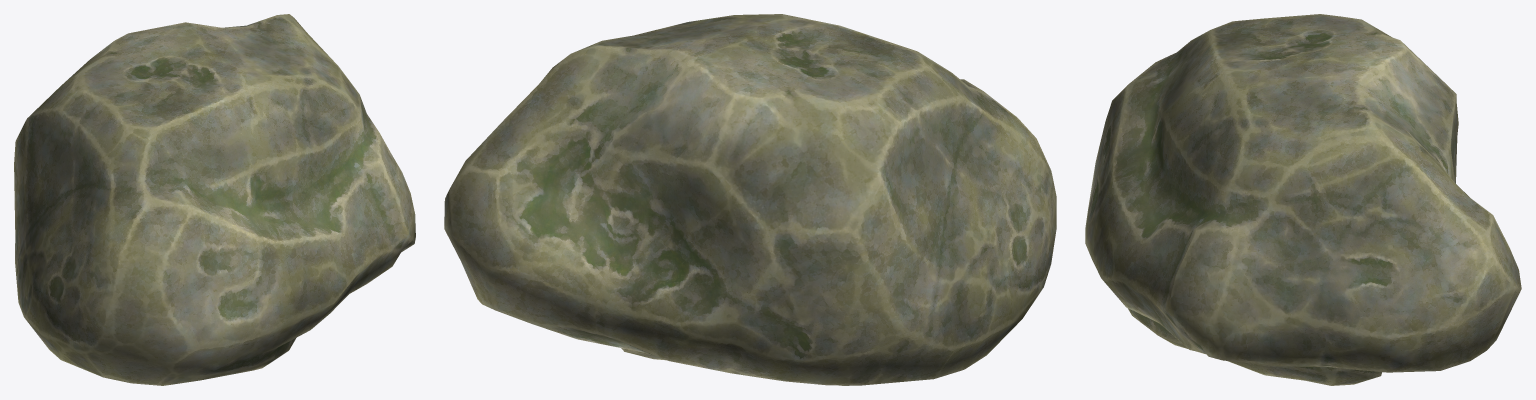
The model's file is SM_Boulder_2.fbx.
3 views of the same model, side by side, from view 1: azimuth 30°, elevation 25°; view 2: azimuth 150°, elevation 25°; view 3: azimuth 270°, elevation 25° (orthographic). The views are drawn at different scales.
Parts seen in each view (by area): view 1: SM_Boulder_2_LOD0; view 2: SM_Boulder_2_LOD0; view 3: SM_Boulder_2_LOD0.
Boxes of the visible parts, <box> form: SM_Boulder_2_LOD0: <box>14,14,415,385</box>; SM_Boulder_2_LOD0: <box>444,14,1056,385</box>; SM_Boulder_2_LOD0: <box>1085,14,1521,385</box>.
Size of the model in its own units: 143 by 128 by 93.13.
